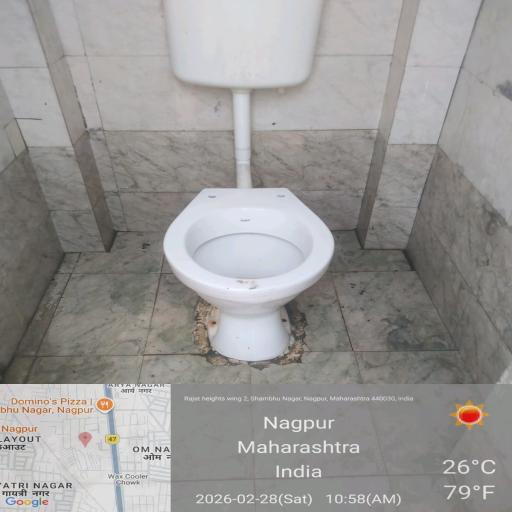clean_western: (168, 8, 384, 390)
partial_dirty_floor: (0, 25, 164, 489), (170, 392, 512, 512)
